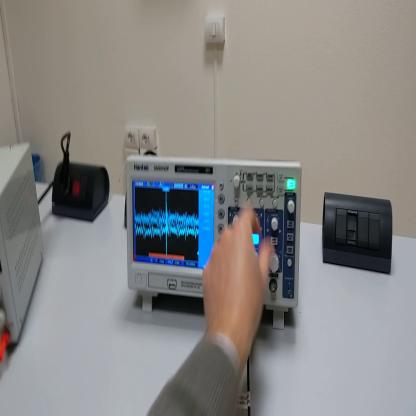hand: (202, 204, 273, 353)
oscilloscope: (129, 149, 310, 323)
power supply: (2, 145, 46, 349)
socket: (50, 161, 111, 223)
